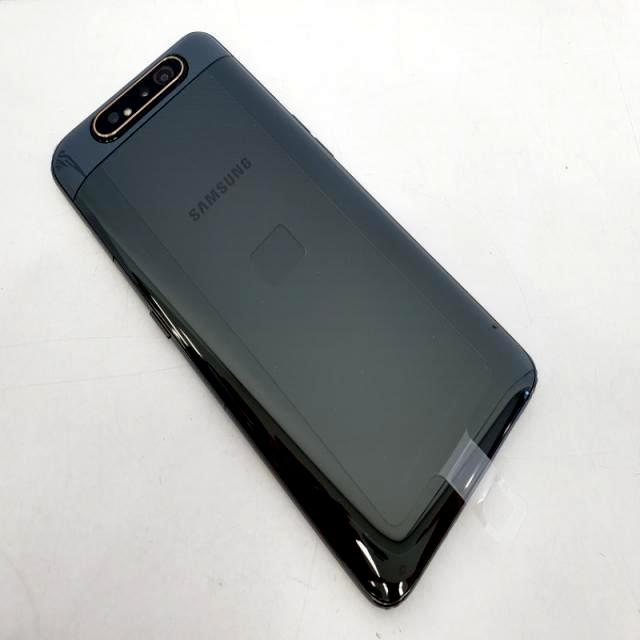lens_back: (153, 64, 174, 86), (104, 108, 122, 126)
phone: (49, 26, 540, 610)
